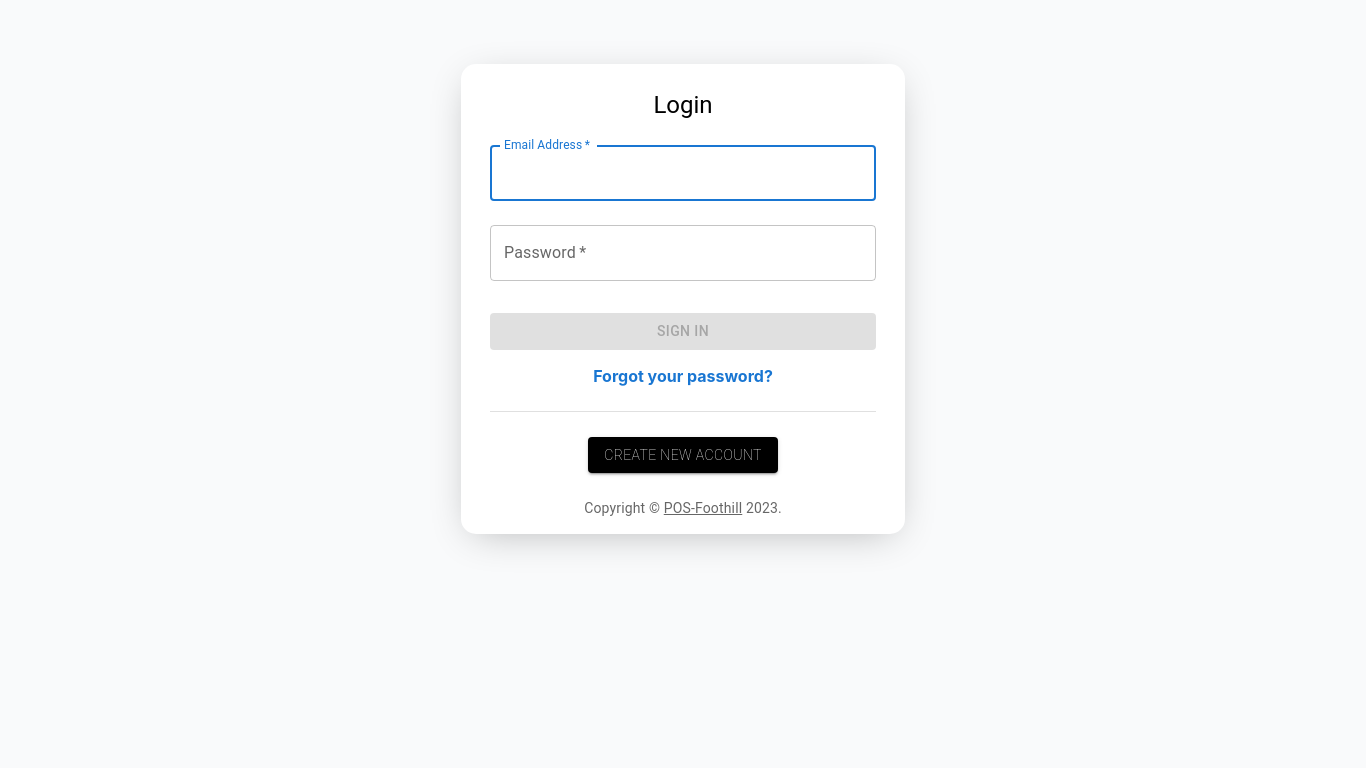
Test: components/SignUp › Validations › Should show 'Required, please enter a valid Email' when the user clears the input or leave the field empty
Type "test" into the field labelled "Email Address *". click: x=683, y=173
box: [490,145,876,201]
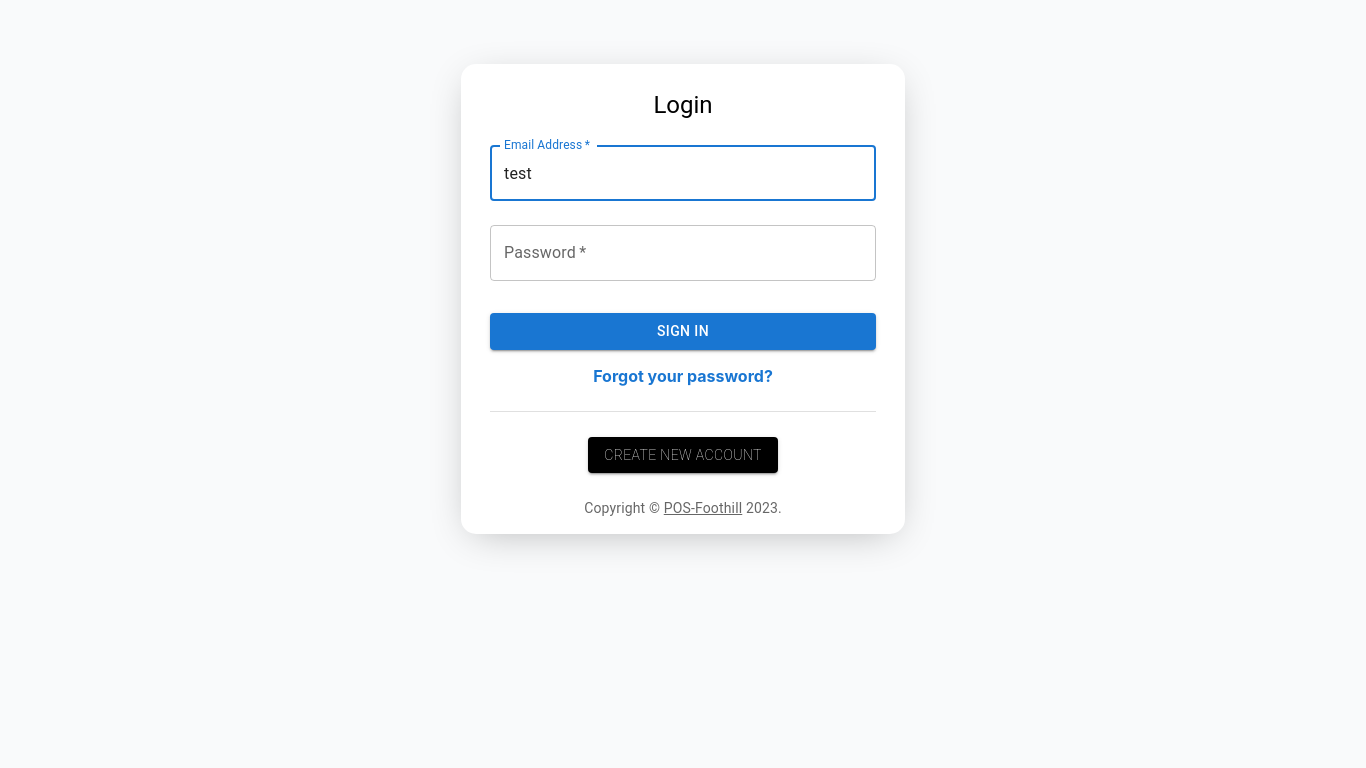
Clear the field labelled "Email Address *". click: x=683, y=173
box: [490,145,876,201]
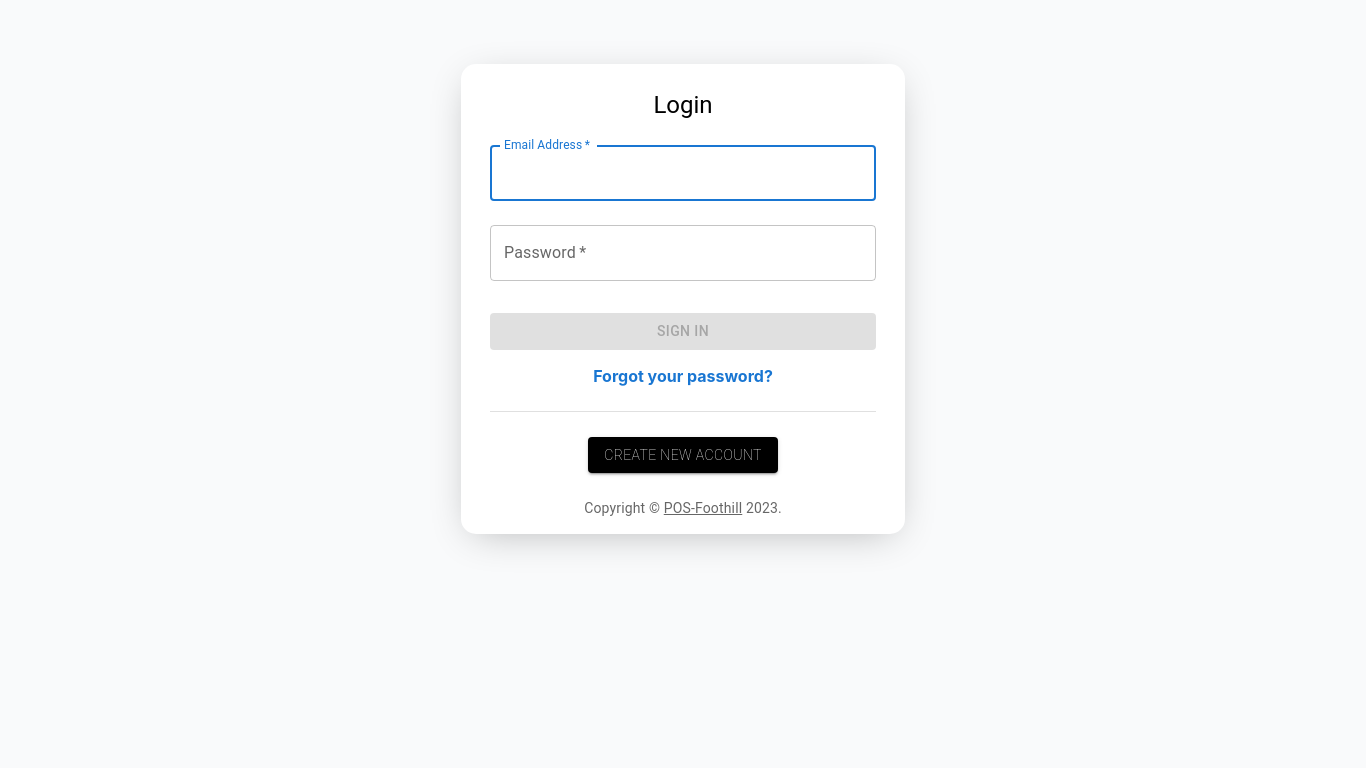
Click the element that starts with "Login". click: x=683, y=299
box: [0,64,1365,534]
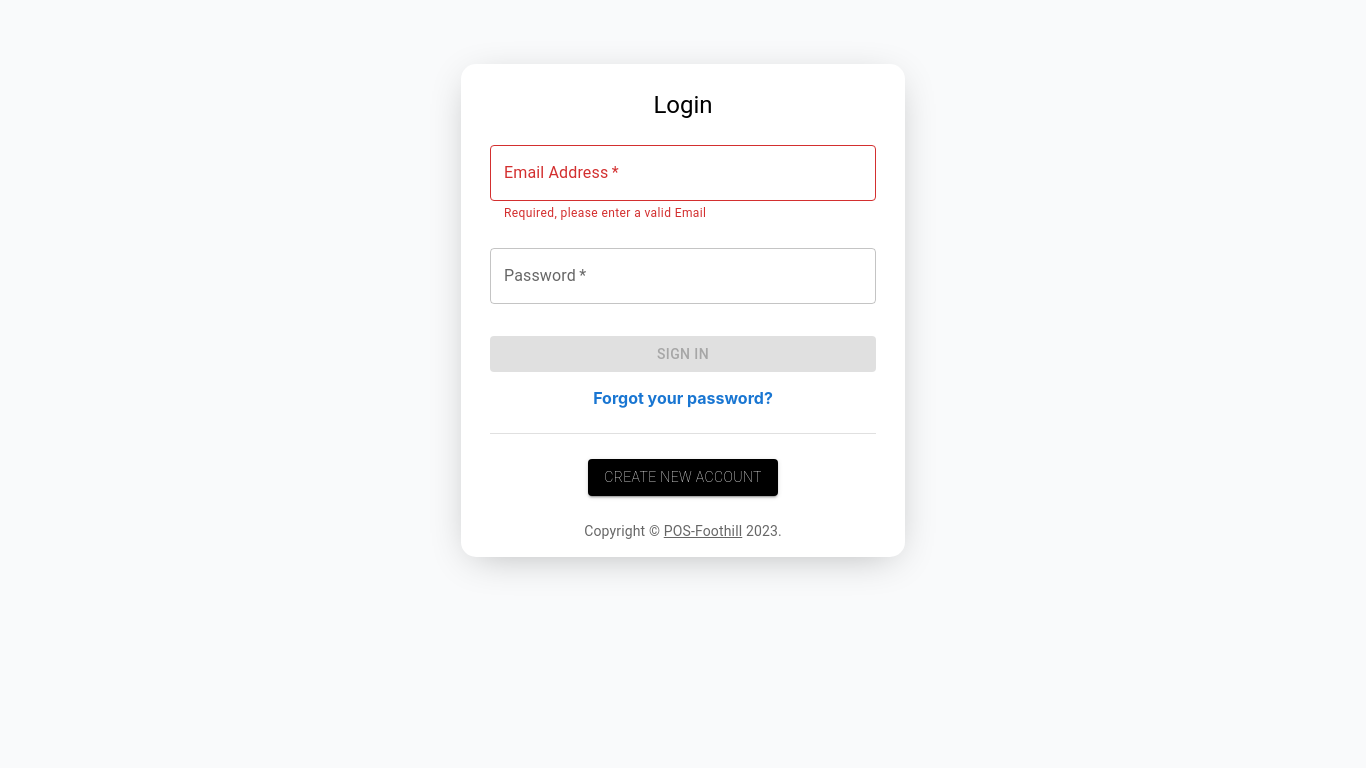
Expected: the text "Required, please enter a valid Email" is shown, [504,206,706,220]
